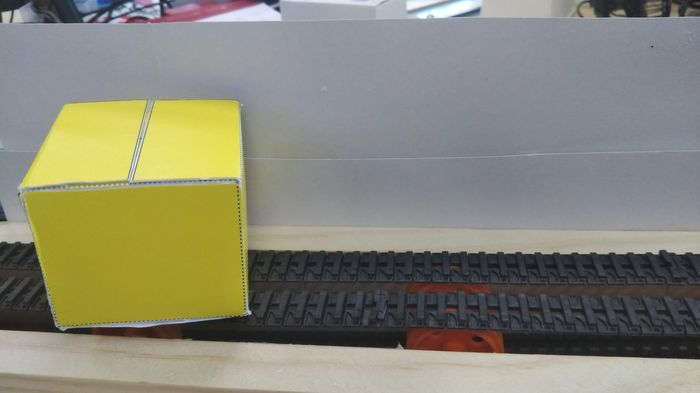box4: (17, 91, 256, 339)
